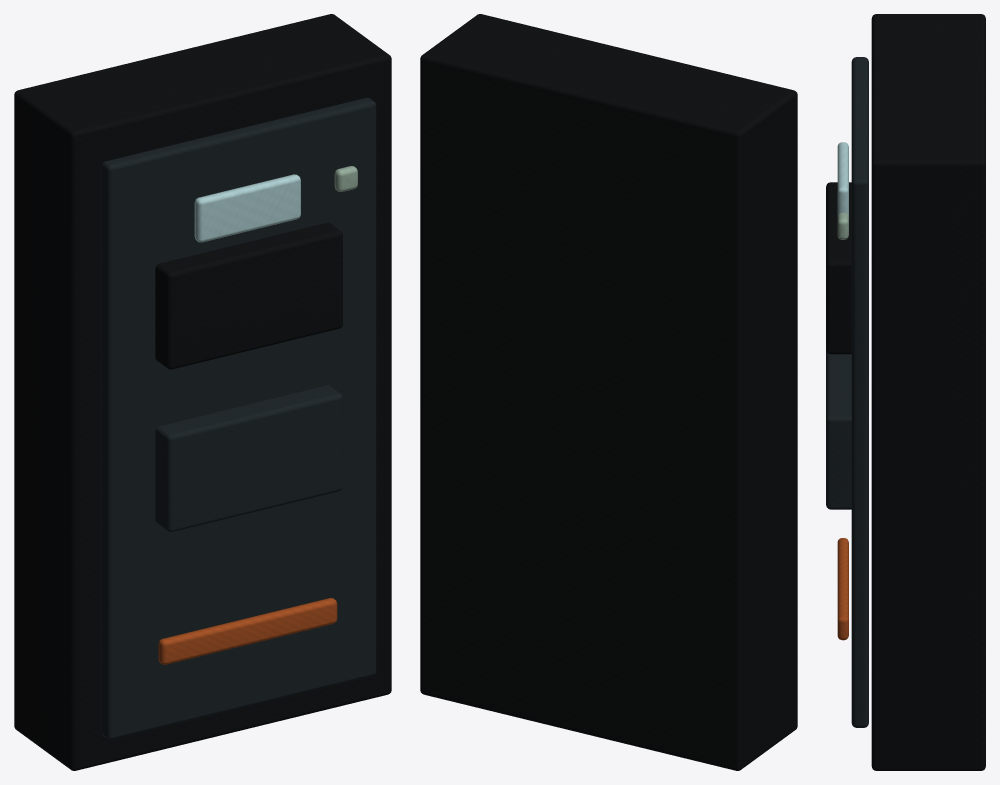
Rendered from WallSpecimenDispenser.fbx.
3 views of the same model, side by side, from view 1: azimuth 30°, elevation 25°; view 2: azimuth 150°, elevation 25°; view 3: azimuth 270°, elevation 25° (orthographic). The views are drawn at different scales.
Visible parts, largest first — view 1: WallSpecimenDispenser_Mesh; view 2: WallSpecimenDispenser_Mesh; view 3: WallSpecimenDispenser_Mesh.
Boxes of the visible parts, x1=… form: WallSpecimenDispenser_Mesh: x1=14, y1=14, x2=391, y2=770; WallSpecimenDispenser_Mesh: x1=420, y1=14, x2=797, y2=770; WallSpecimenDispenser_Mesh: x1=826, y1=14, x2=985, y2=770.
Size of the model in its own units: 62 by 118 by 28.
